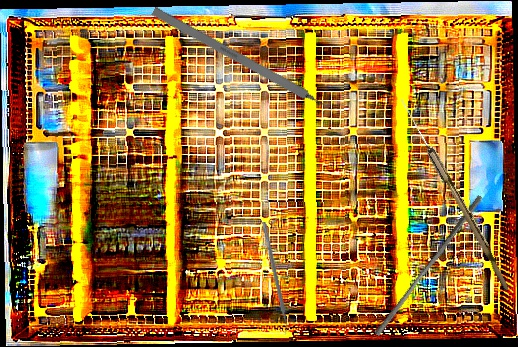Hook Surgical: (151, 6, 345, 120)
Pusher: (373, 190, 484, 341)
Spatula Surgical: (257, 221, 292, 336)
Surgical Spoon: (396, 97, 514, 291)
